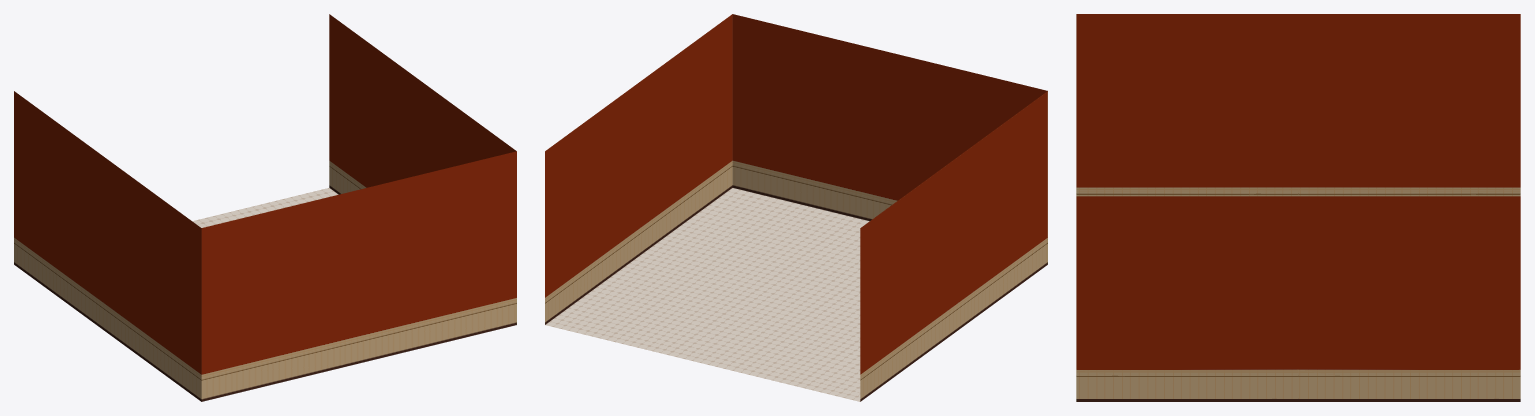
3 renders of one model, left to right at view 1: azimuth 30°, elevation 25°; view 2: azimuth 150°, elevation 25°; view 3: azimuth 270°, elevation 25°, orthographic. The views are drawn at different scales.
Parts seen in each view (by area): view 1: BG5; view 2: BG5; view 3: BG5.
Boxes of the visible parts, x1,y1,x2,y2 form: BG5: (14,14,516,401); BG5: (545,14,1047,401); BG5: (1076,14,1520,401).
Size of the model in its own units: 18642 by 19205 by 9820.
